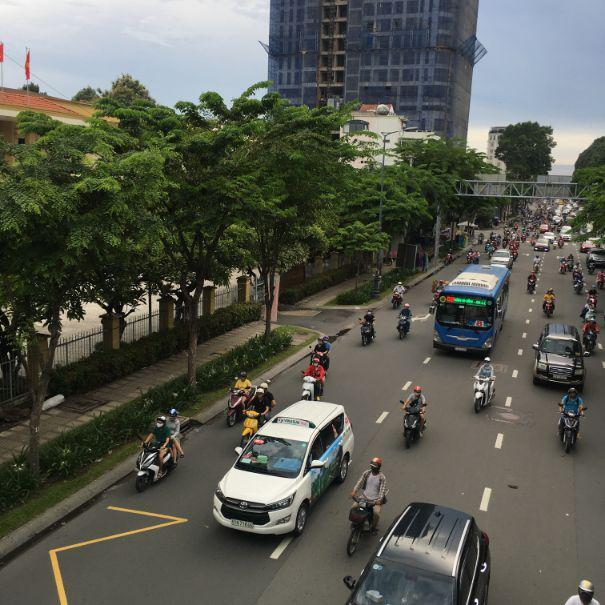bus: (433, 265, 514, 355)
car: (214, 403, 354, 538), (332, 501, 494, 605), (532, 331, 586, 386), (587, 250, 605, 271), (490, 249, 510, 265)
motorbike: (135, 433, 183, 493), (347, 493, 386, 557), (237, 403, 271, 450), (559, 406, 585, 456), (472, 361, 497, 412), (227, 384, 253, 428), (401, 406, 426, 449), (302, 360, 327, 401), (581, 319, 599, 353), (544, 290, 558, 316), (360, 321, 375, 345), (527, 274, 537, 294)
